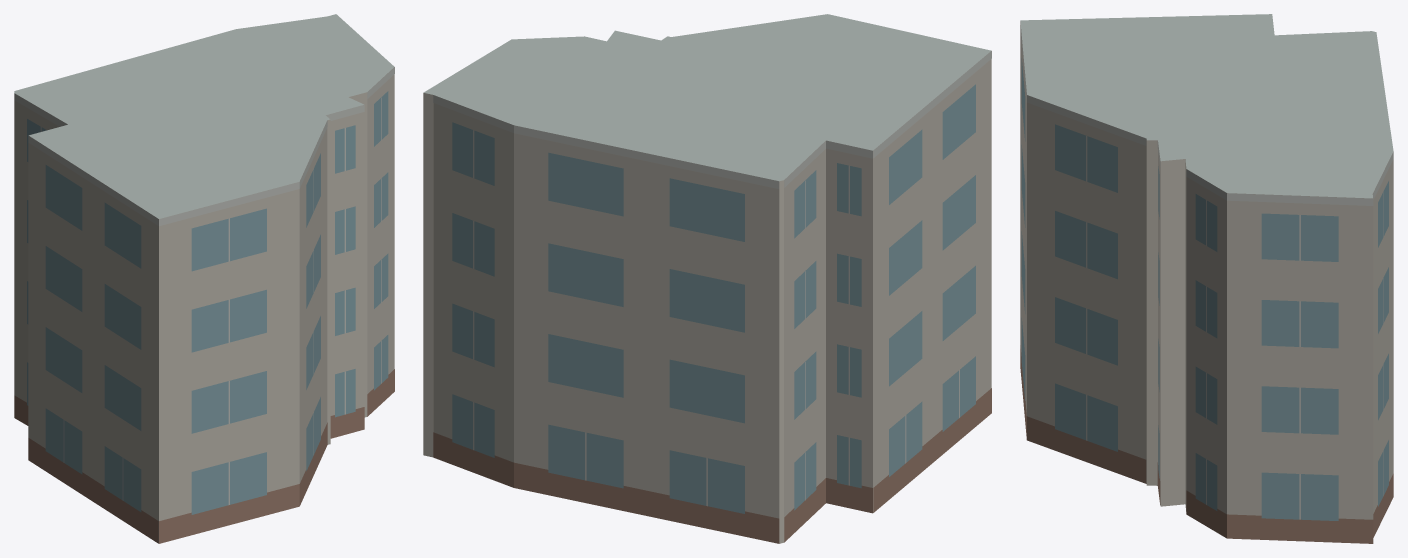
The model's file is survey-upis-33030191.glb.
The picture shows the model from 3 angles, left to right: view 1: azimuth 30°, elevation 25°; view 2: azimuth 150°, elevation 25°; view 3: azimuth 270°, elevation 25°; orthographic projection. The views are drawn at different scales.
Visible parts, largest first — view 1: survey-upis-33030191.tmp; view 2: survey-upis-33030191.tmp; view 3: survey-upis-33030191.tmp.
Part boxes in pixels (x1,y1,x2,y2): survey-upis-33030191.tmp: [14, 14, 394, 543]; survey-upis-33030191.tmp: [423, 14, 991, 543]; survey-upis-33030191.tmp: [1020, 14, 1393, 543].
Size of the model in its own units: 12.66 by 11.05 by 10.83.
